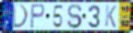3: (87, 4, 101, 29)
5: (52, 5, 64, 29)
D: (13, 4, 30, 29)
K: (104, 5, 117, 29)
P: (30, 3, 46, 30)
S: (66, 4, 83, 30)
